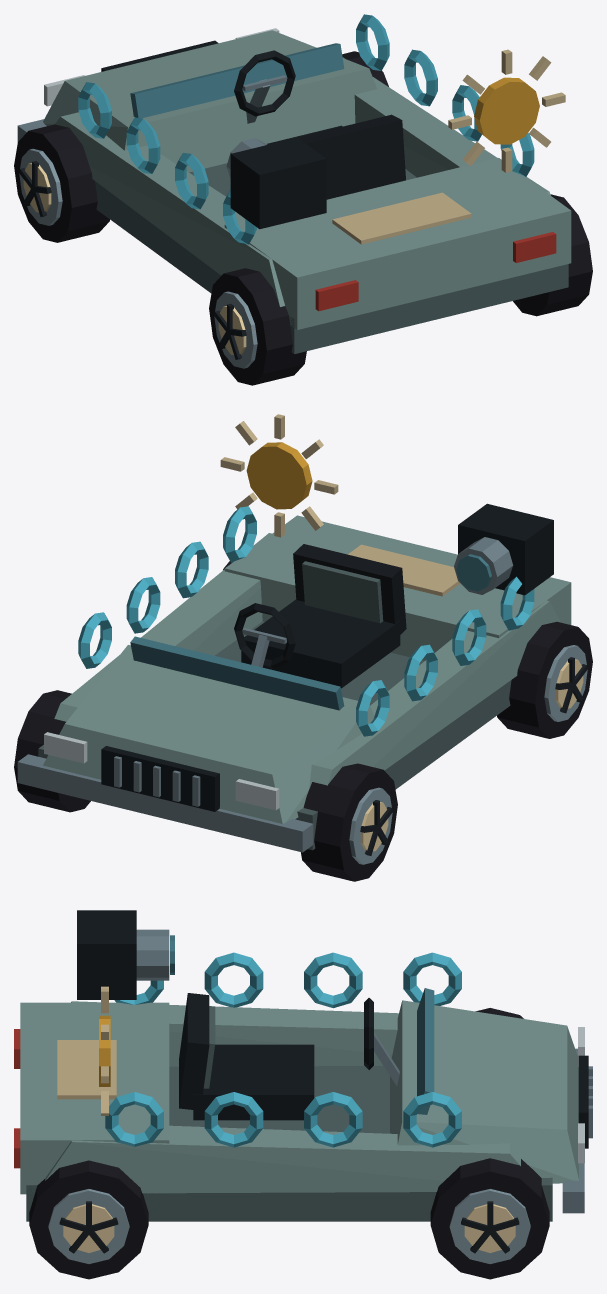
File: kart.glb
3 views of the same model, one above another, from view 1: azimuth 30°, elevation 25°; view 2: azimuth 150°, elevation 25°; view 3: azimuth 270°, elevation 25° (orthographic). The views are drawn at different scales.
Visible parts, largest first — view 1: identity-sedan-sedan-road-car-body, identity-sedan-motif-water, identity-sedan-driver-cockpit, wheel-front-left, wheel-rear-left, identity-sedan-motif-camera, identity-sedan-motif-sun, wheel-rear-right; view 2: identity-sedan-sedan-road-car-body, identity-sedan-driver-cockpit, identity-sedan-motif-water, wheel-front-left, wheel-rear-left, identity-sedan-motif-camera, identity-sedan-motif-sun, wheel-front-right; view 3: identity-sedan-sedan-road-car-body, identity-sedan-motif-water, identity-sedan-driver-cockpit, wheel-front-right, wheel-rear-right, identity-sedan-motif-camera, identity-sedan-motif-sun.
Boxes of the visible parts, x1,y1,x2,y2 form: identity-sedan-sedan-road-car-body: (17,28,571,354); identity-sedan-motif-water: (78,14,534,244); identity-sedan-driver-cockpit: (234,50,405,199); wheel-front-left: (14,124,109,242); wheel-rear-left: (209,268,306,385); identity-sedan-motif-camera: (226,137,326,229); identity-sedan-motif-sun: (448,49,565,172); wheel-rear-right: (513,194,592,316); identity-sedan-sedan-road-car-body: (17,515,571,852); identity-sedan-driver-cockpit: (234,544,406,688); identity-sedan-motif-water: (78,506,534,736); wheel-front-left: (301,763,397,881); wheel-rear-left: (497,621,592,738); identity-sedan-motif-camera: (454,503,553,595); identity-sedan-motif-sun: (220,414,338,537); wheel-front-right: (14,690,90,812); identity-sedan-sedan-road-car-body: (14,988,592,1221); identity-sedan-motif-water: (105,952,461,1147); identity-sedan-driver-cockpit: (179,993,399,1120); wheel-front-right: (430,1158,549,1279); wheel-rear-right: (29,1160,148,1279); identity-sedan-motif-camera: (77,910,174,999); identity-sedan-motif-sun: (99,986,110,1115).
Bounding box in the file's own units: 2.07 × 1.47 × 2.92.
